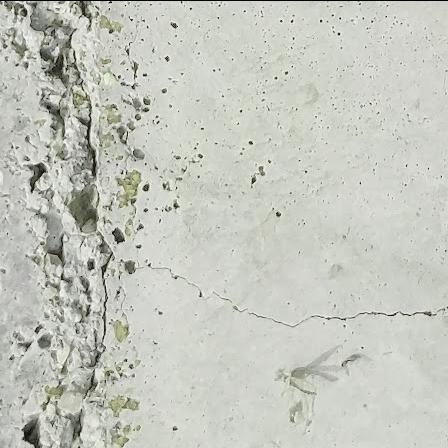crack: (135, 255, 447, 353), (74, 225, 119, 440), (69, 46, 102, 182)
spalling: (0, 200, 106, 340), (1, 2, 72, 145), (59, 179, 114, 238)
